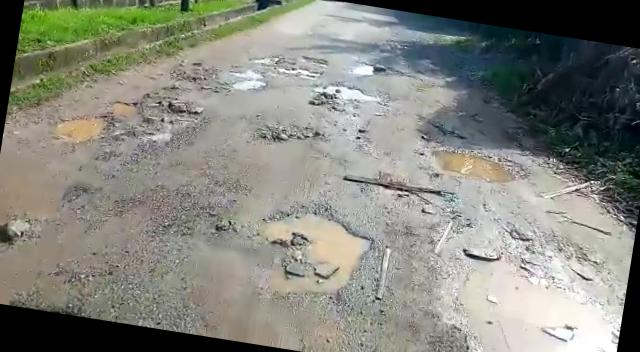pothole: (441, 258, 627, 352), (249, 204, 377, 306), (424, 140, 536, 190), (111, 85, 205, 140), (248, 115, 329, 150), (49, 105, 110, 148), (307, 78, 383, 108), (224, 68, 270, 96)
